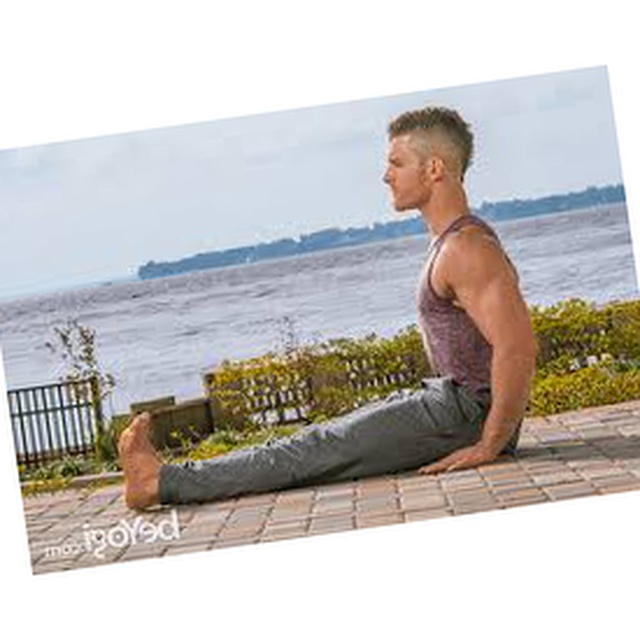Staff_Pose: (116, 105, 538, 512)
